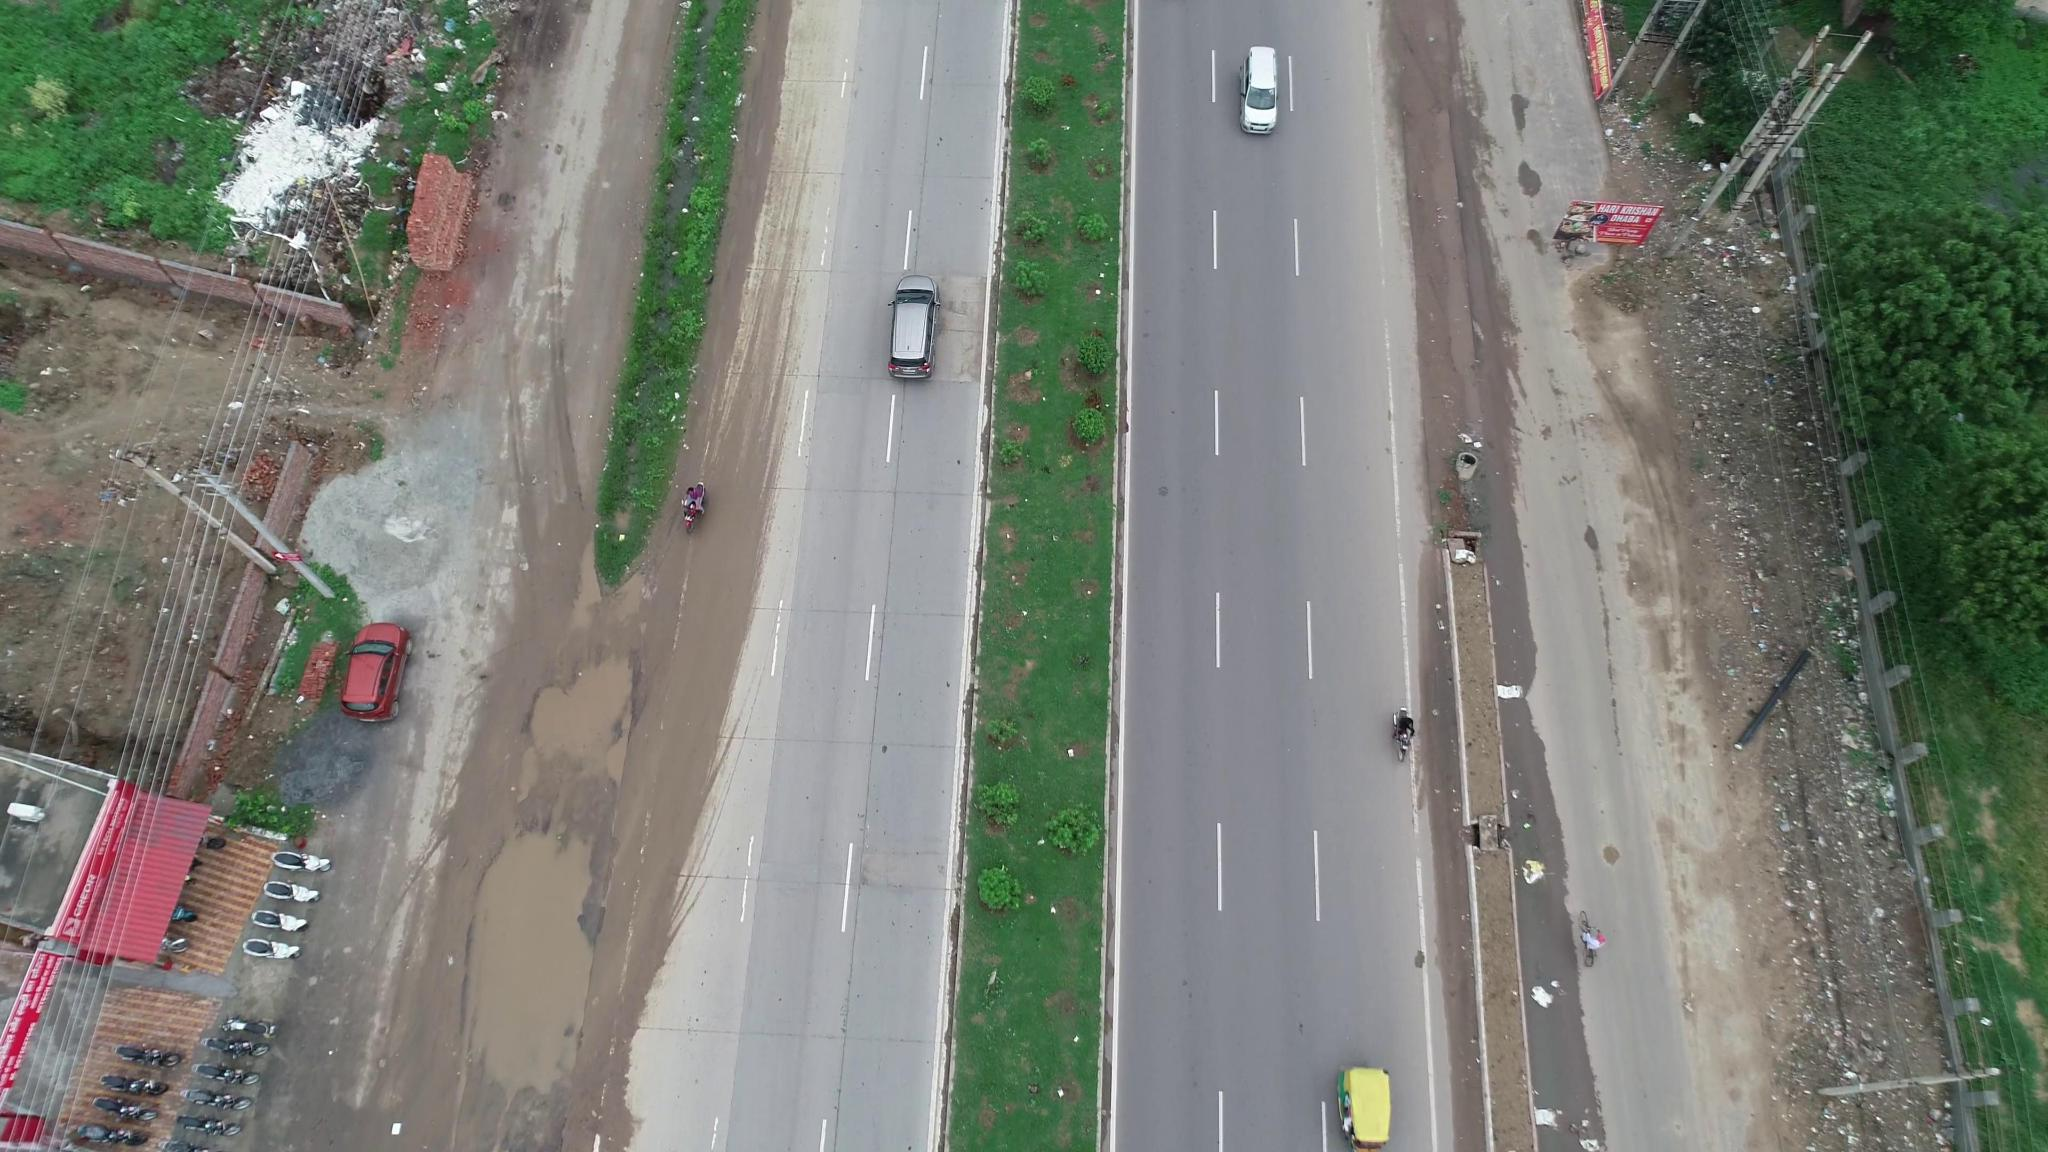Waterlogging: (442, 845, 595, 1113), (518, 651, 632, 805)
